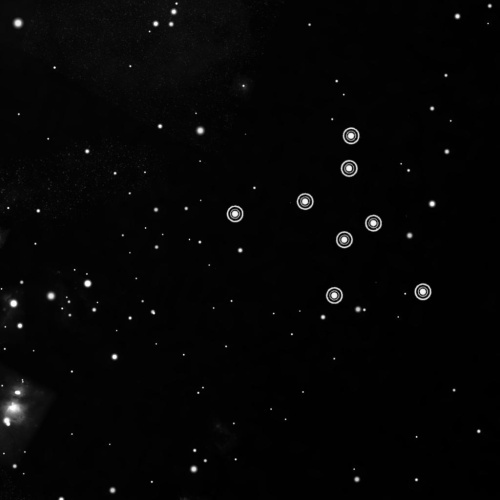hercules: (221, 116, 438, 318)
